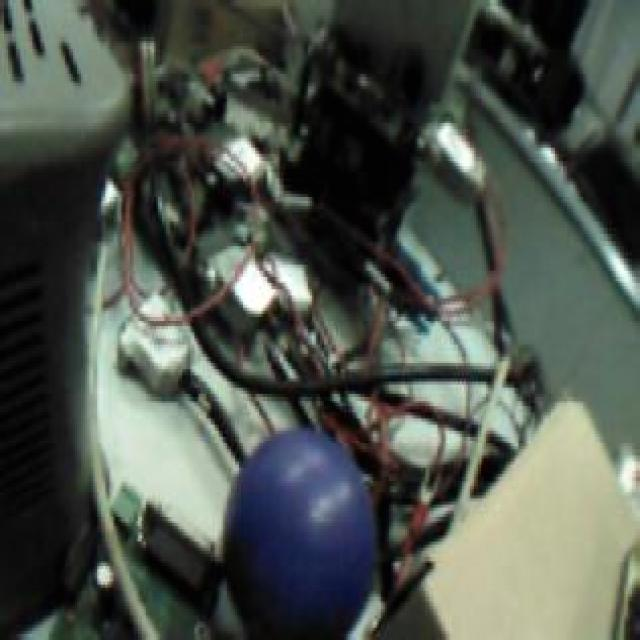BallPurple: (224, 427, 376, 640)
